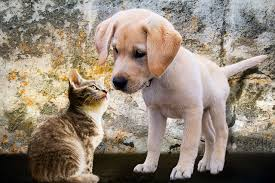cat: (25, 69, 110, 182)
dog: (94, 12, 268, 180)
